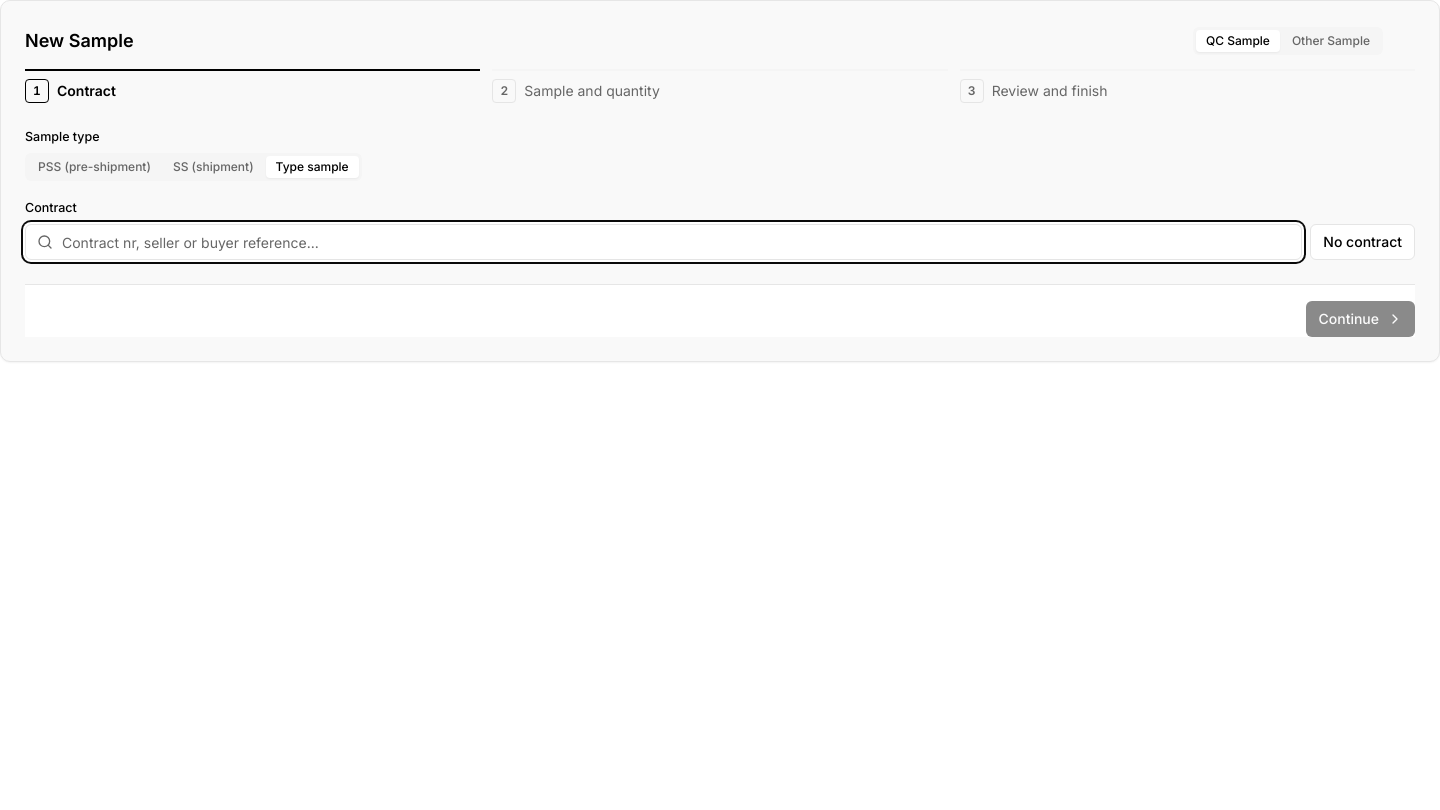
Test: SampleIntakeForm — a Step-1 contract pick › goes straight to the details step, names the contract in the header, and carries every mapped field to the POST
This screenshot has width=1440, height=810.
Type "42611" into the dropdown with placeholder "Contract nr, seller or buyer reference...".
click(664, 242); type("42611")  # box [25,224,1302,260]
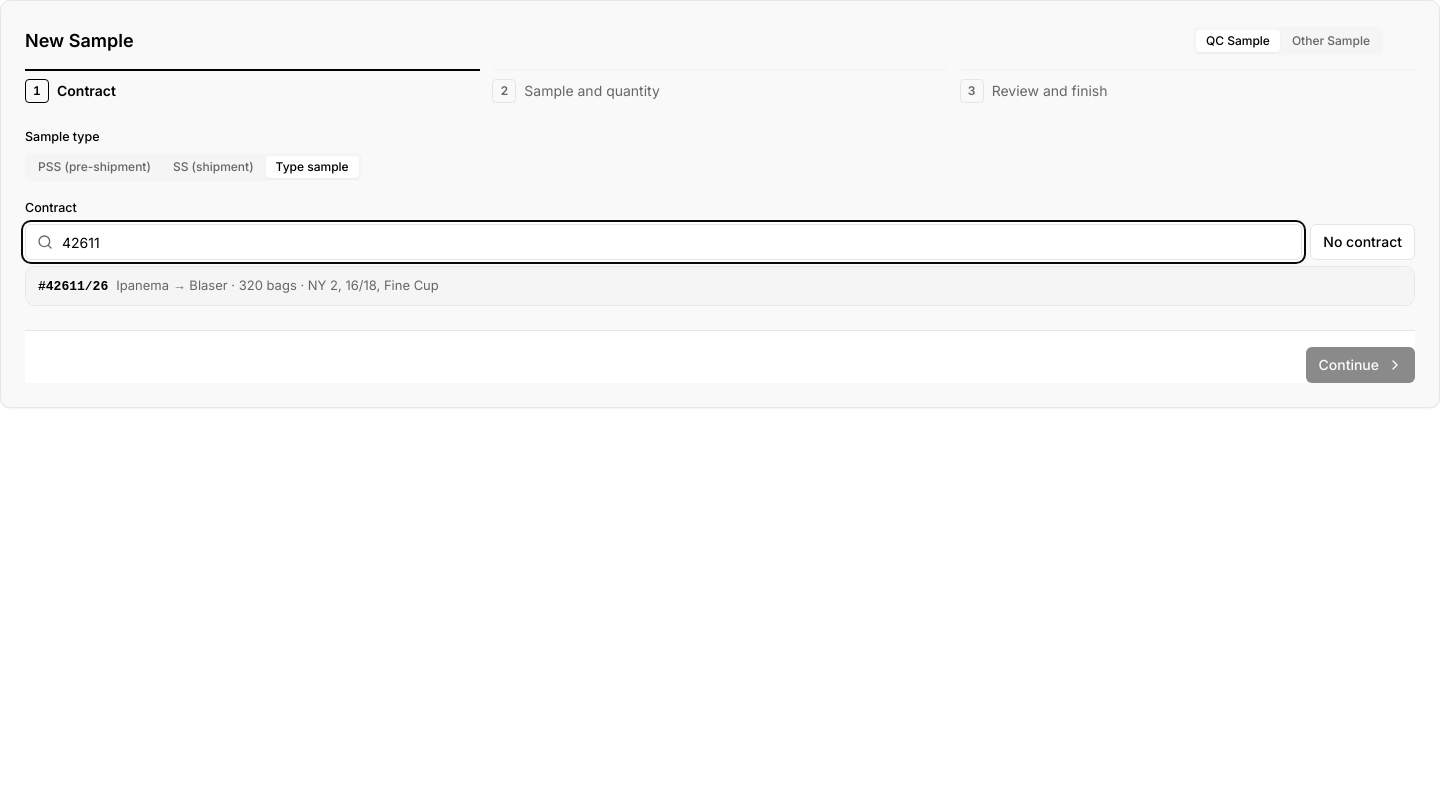
Click the text "#42611/26".
click(73, 287)  # box [38,277,108,297]
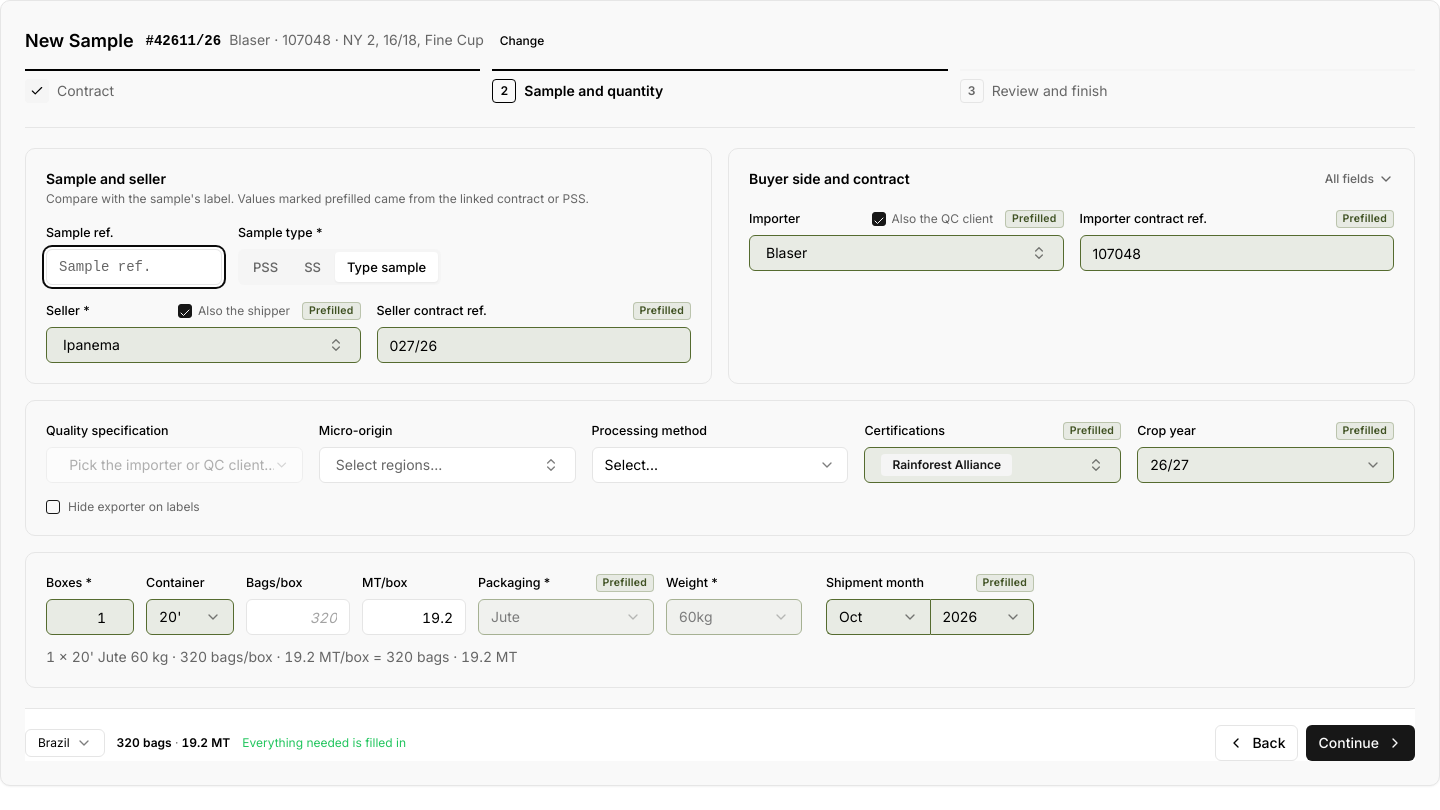
Expected: the element with test id "linked-header" shows "Blaser · 107048 · NY 2, 16/18, Fine Cup", [229,31,484,48]
Expected: the field showing "027/26" is shown, [376,327,691,363]
Expected: the field showing "107048" is shown, [1080,235,1394,271]
// On to the review step.
Click the button "Continue".
click(1361, 743)  # box [1306,725,1415,761]
(page scrolled)
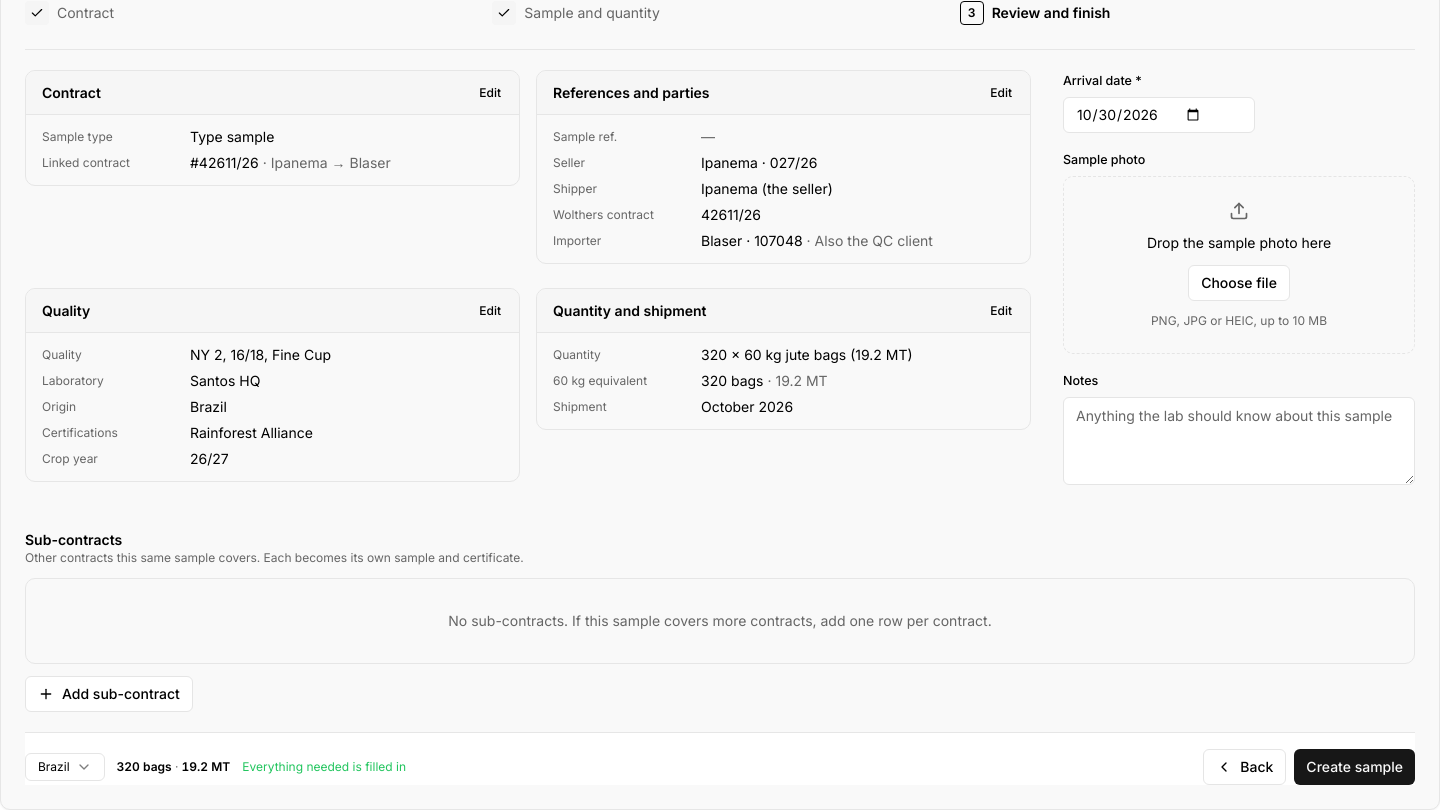
Expected: the element showing "Linked contract #42611/26 · Ipanema → Blaser" is shown, [42,154,391,171]
Click the button "Create sample".
click(1355, 767)  # box [1294,749,1415,785]
(page scrolled)
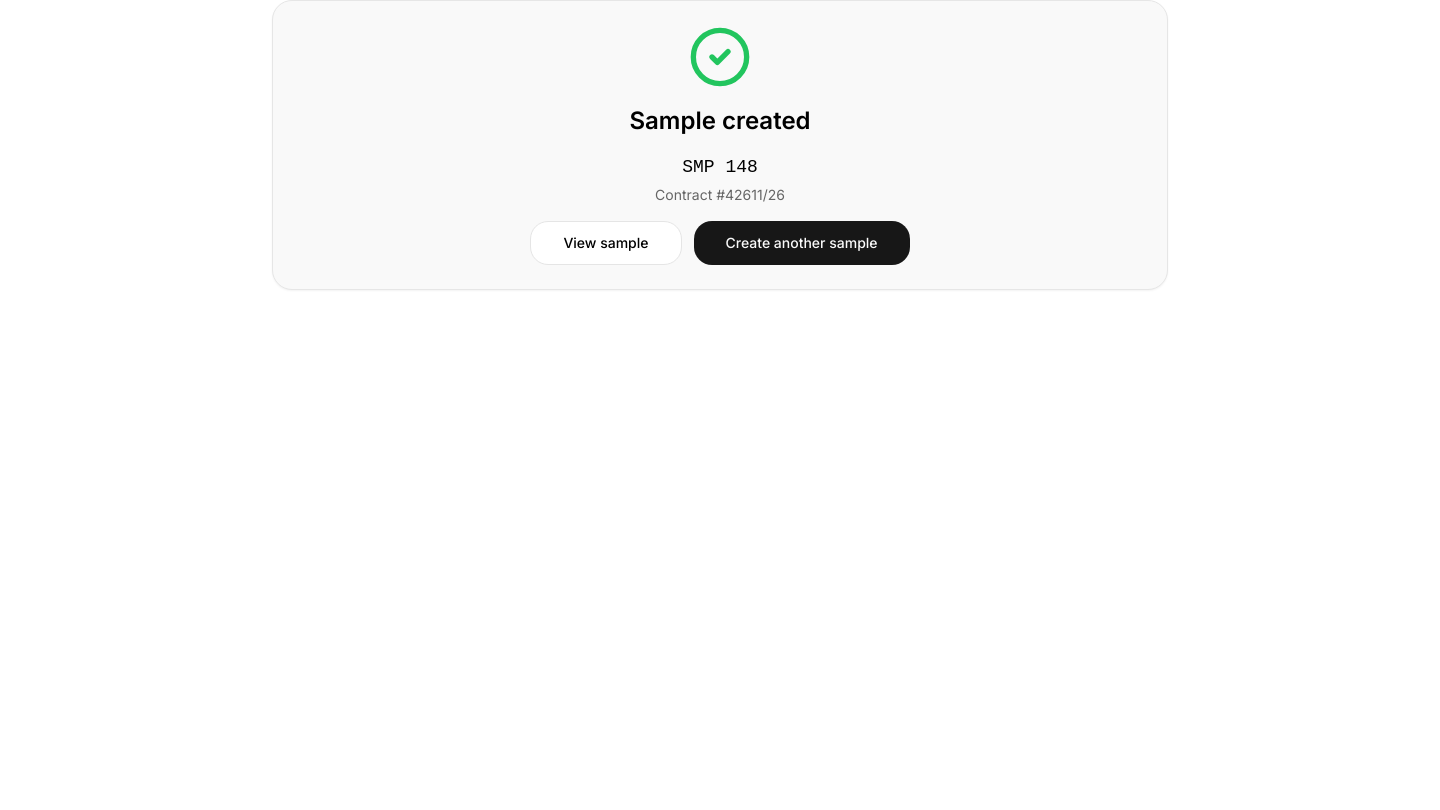
Expected: the heading "Sample created" is shown, [630,106,811,135]
Expected: the text "SMP 148" is shown, [682,157,758,177]
Expected: the text "Contract #42611/26" is shown, [655,186,785,203]
